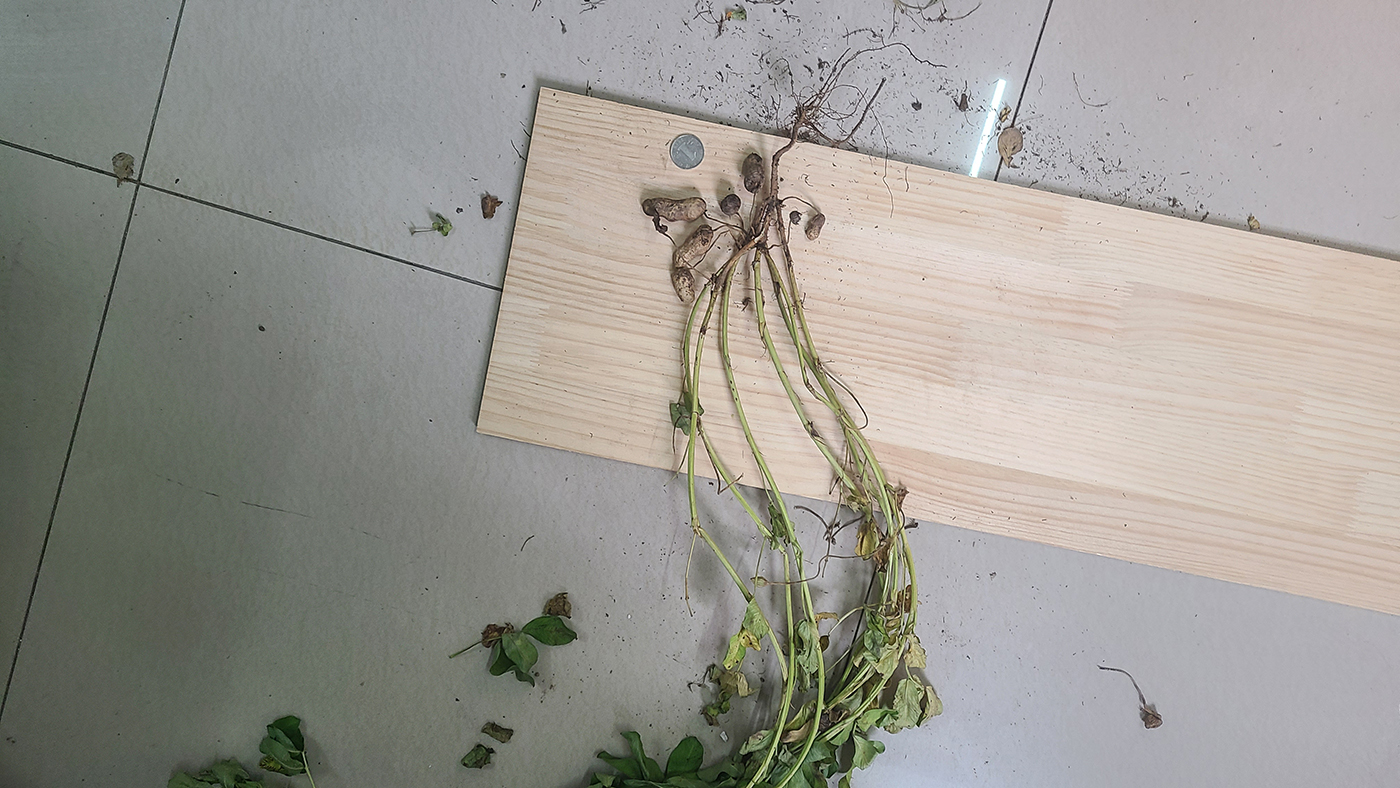h: (673, 225, 714, 269), (670, 269, 696, 304)
l: (642, 198, 708, 221), (742, 153, 763, 193), (805, 213, 826, 240), (720, 194, 740, 217), (653, 216, 667, 232), (788, 210, 802, 226)
